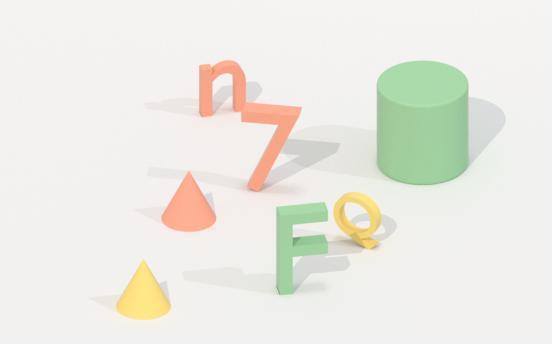chu_khoi: (276, 202, 327, 294), (334, 192, 381, 248), (199, 60, 245, 116)
non: (162, 172, 215, 231), (117, 261, 170, 319)
so_khoi: (241, 103, 300, 190)
tru: (377, 60, 468, 183)
